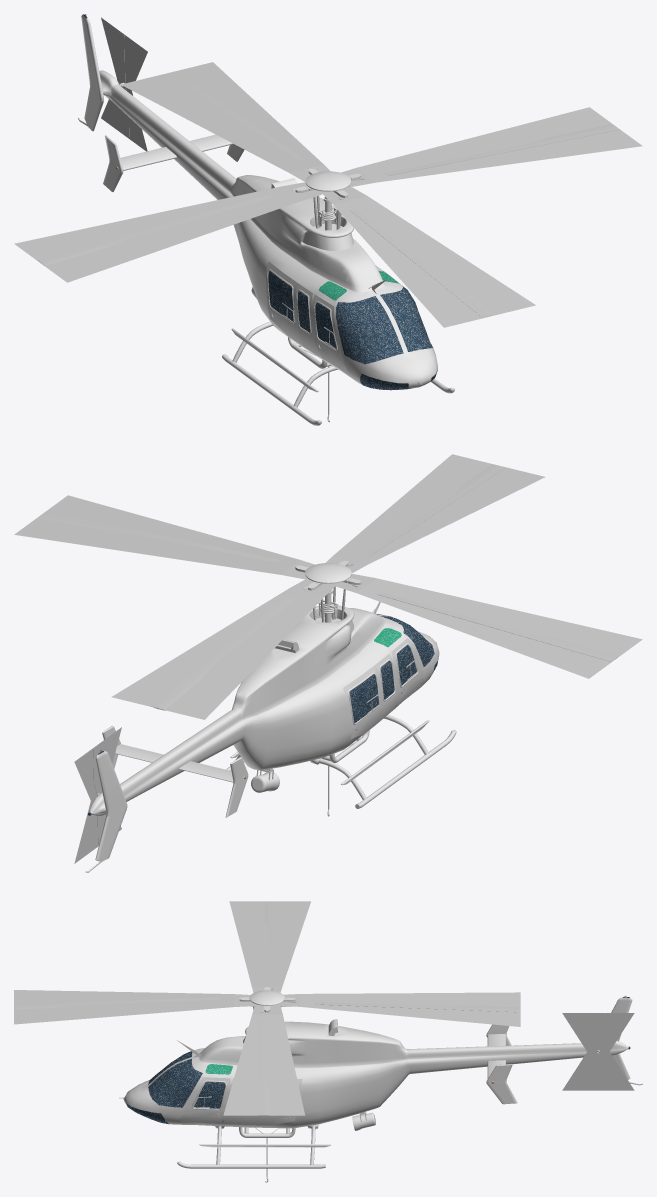
File: bell407.dae
3 renders of one model, top to bottom at view 1: azimuth 30°, elevation 25°; view 2: azimuth 150°, elevation 25°; view 3: azimuth 270°, elevation 25°, orthographic. The views are drawn at different scales.
Parts seen in each view (by area): view 1: bell407_mainrotor_blur, bell407_fuselage, bell407_mainrotor, bell407_rearrotor_blur, bell407_skids, bell407_doorR2, bell407_doorR0; view 2: bell407_mainrotor_blur, bell407_fuselage, bell407_mainrotor, bell407_doorR2, bell407_skids, bell407_rearrotor_blur, bell407_doorR0; view 3: bell407_fuselage, bell407_mainrotor_blur, bell407_mainrotor, bell407_rearrotor_blur, bell407_doorL0, bell407_skids, bell407_rearrotor, bell407_doorL2.
Part boxes in pixels (x1,y1,x2,y2): bell407_mainrotor_blur: [14, 62, 642, 327]; bell407_fuselage: [78, 14, 437, 390]; bell407_mainrotor: [38, 71, 619, 317]; bell407_rearrotor_blur: [101, 17, 147, 151]; bell407_skids: [222, 321, 454, 425]; bell407_doorR2: [266, 261, 303, 346]; bell407_doorR0: [312, 294, 348, 374]; bell407_mainrotor_blur: [14, 454, 642, 719]; bell407_fuselage: [85, 601, 439, 872]; bell407_mainrotor: [38, 464, 618, 710]; bell407_doorR2: [343, 665, 382, 738]; bell407_skids: [226, 714, 456, 808]; bell407_rearrotor_blur: [74, 727, 121, 863]; bell407_doorR0: [391, 638, 424, 707]; bell407_fuselage: [123, 996, 642, 1128]; bell407_mainrotor_blur: [14, 901, 520, 1115]; bell407_mainrotor: [15, 901, 519, 1115]; bell407_rearrotor_blur: [562, 1013, 634, 1090]; bell407_doorL0: [180, 1077, 230, 1123]; bell407_skids: [177, 1124, 331, 1168]; bell407_rearrotor: [591, 1013, 605, 1089]; bell407_doorL2: [248, 1079, 302, 1125].
Size of the model in its own units: 10.53 by 13.08 by 4.3.
